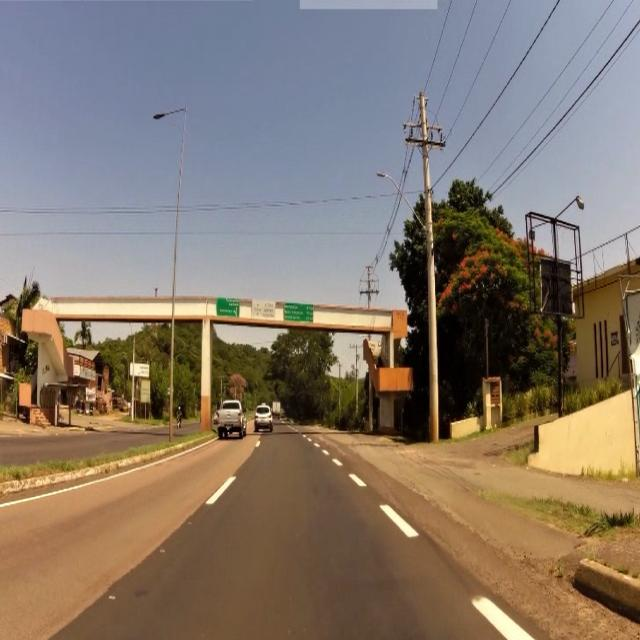E-5: (253, 298, 276, 318)
I-4: (285, 303, 313, 321), (217, 299, 238, 316)
